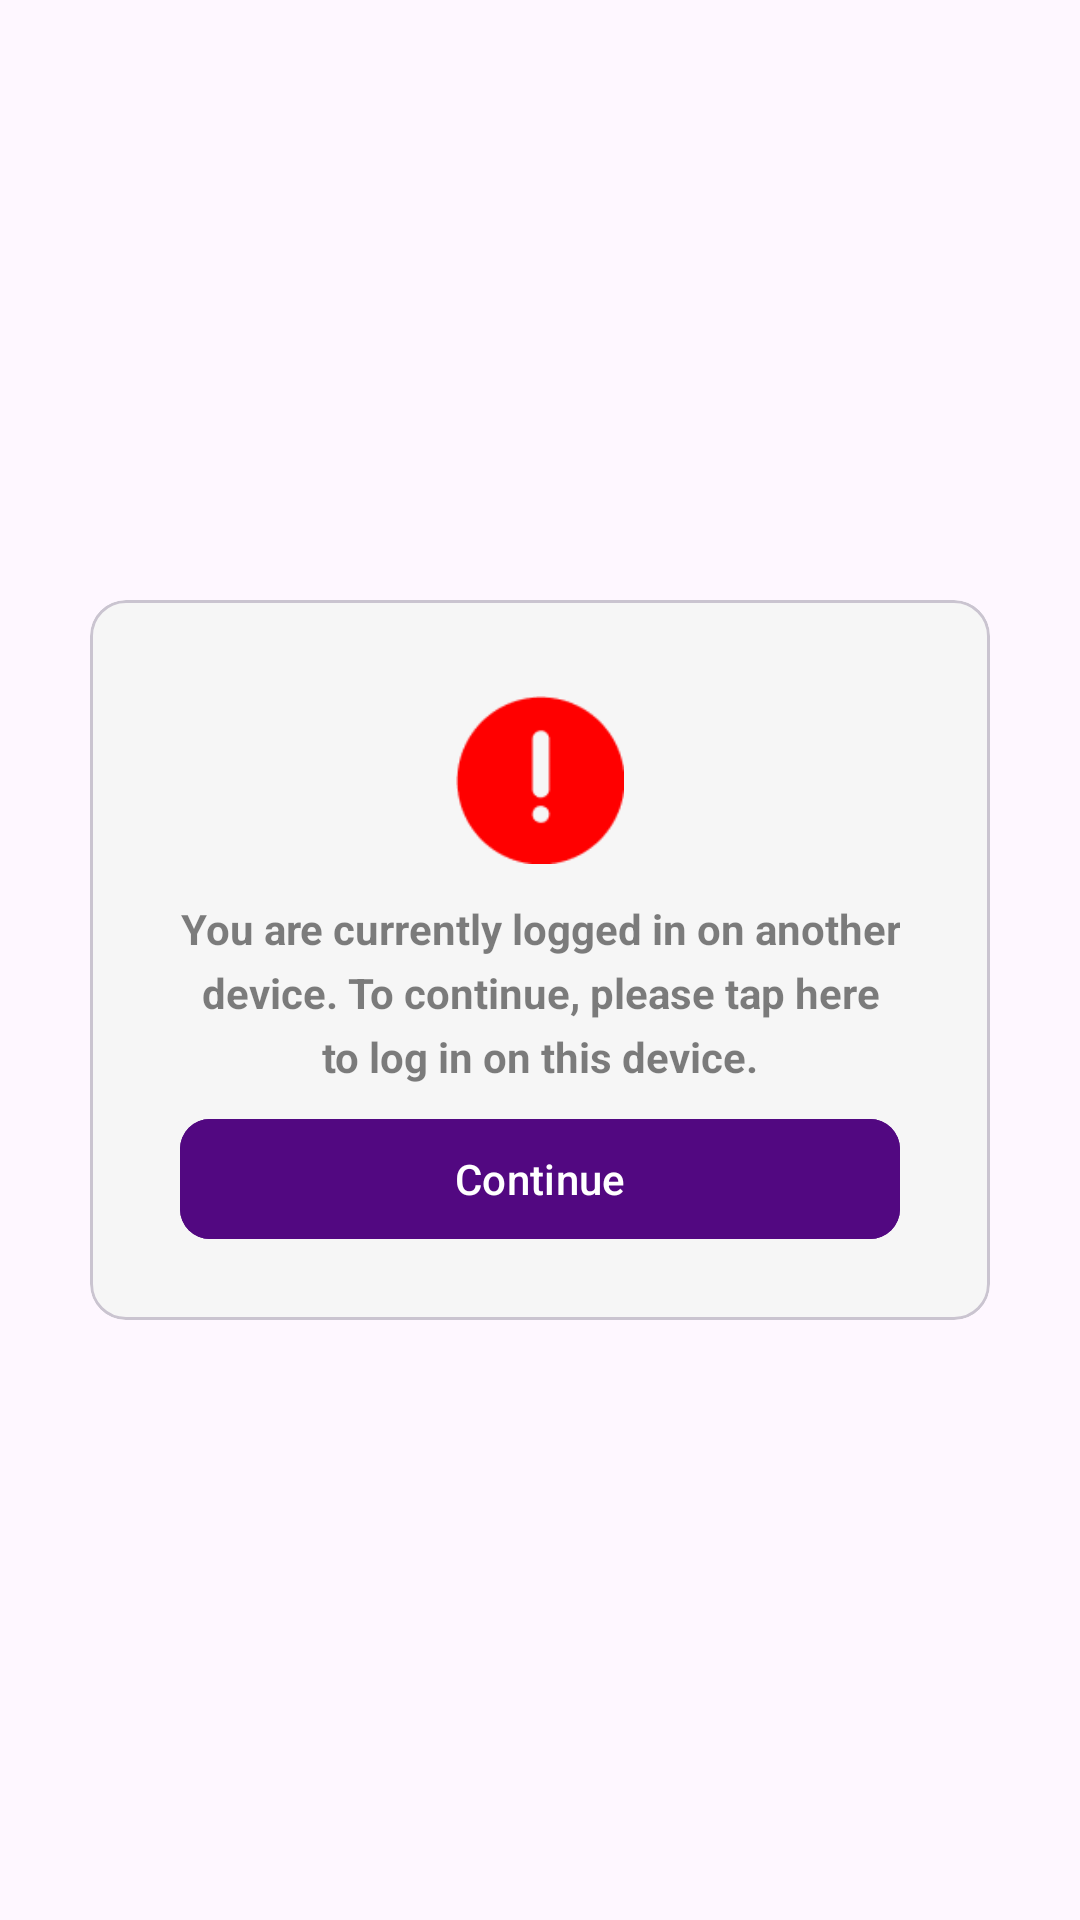

Where to tap for icons on this 1080x1920 app screen, as point (x, y):
warn: point (540, 780)
